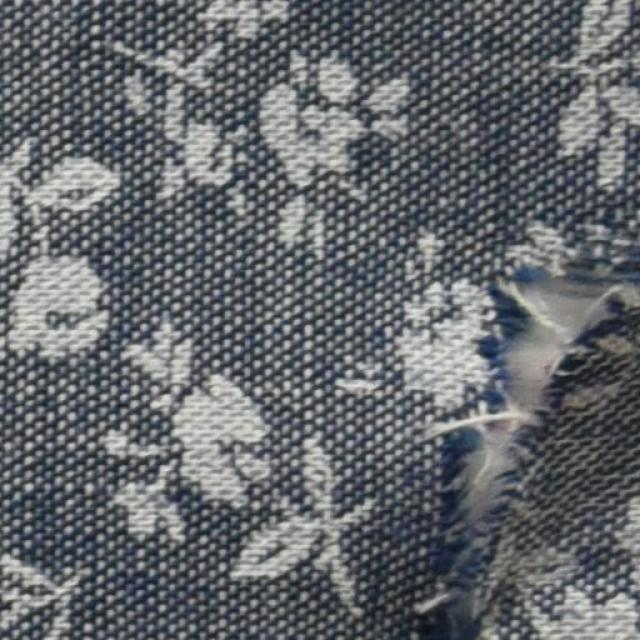Hole: (475, 280, 592, 529)
Snag: (409, 270, 521, 639)
